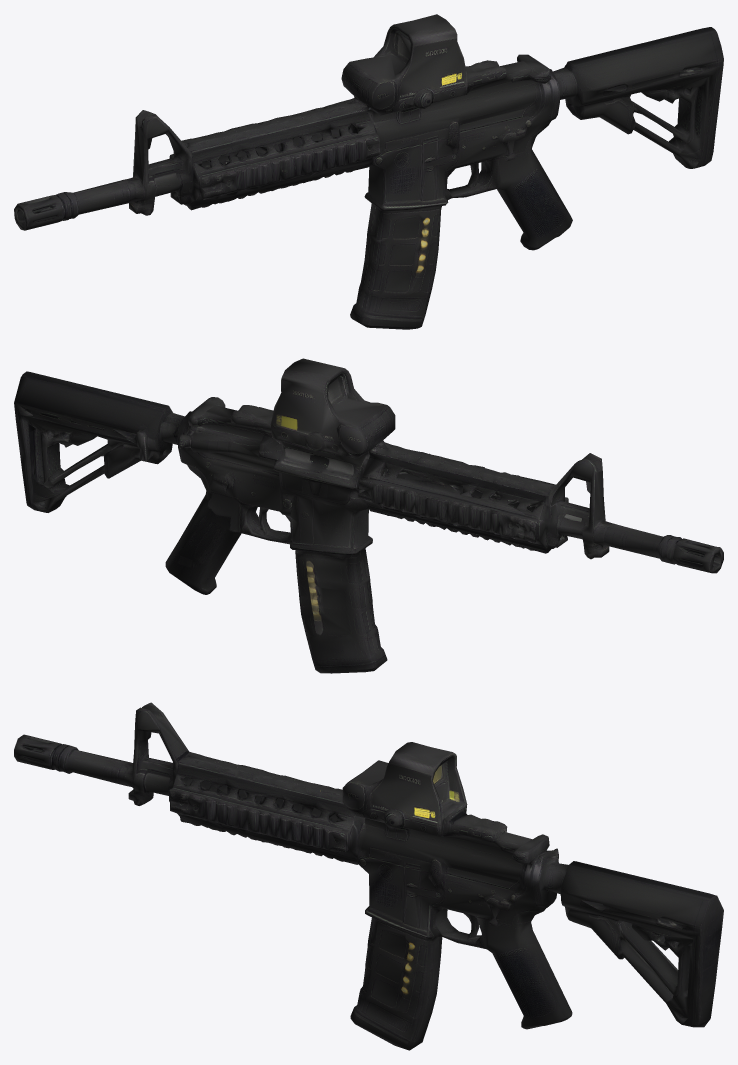
Rendered from Meshy_AI_AR_15_Style_Rifle_wit_0617215344_texture.glb.
3 views of the same model, one above another, from view 1: azimuth 30°, elevation 25°; view 2: azimuth 150°, elevation 25°; view 3: azimuth 330°, elevation 25° (orthographic).
Parts seen in each view (by area): view 1: Mesh_0; view 2: Mesh_0; view 3: Mesh_0.
Boxes of the visible parts, left/top/right/bottom form: Mesh_0: left=14, top=14, right=723, bottom=329; Mesh_0: left=14, top=358, right=723, bottom=673; Mesh_0: left=14, top=702, right=723, bottom=1050.
Size of the model in its own units: 1.91 by 0.7891 by 0.1899.
1 material, 1 textured.
